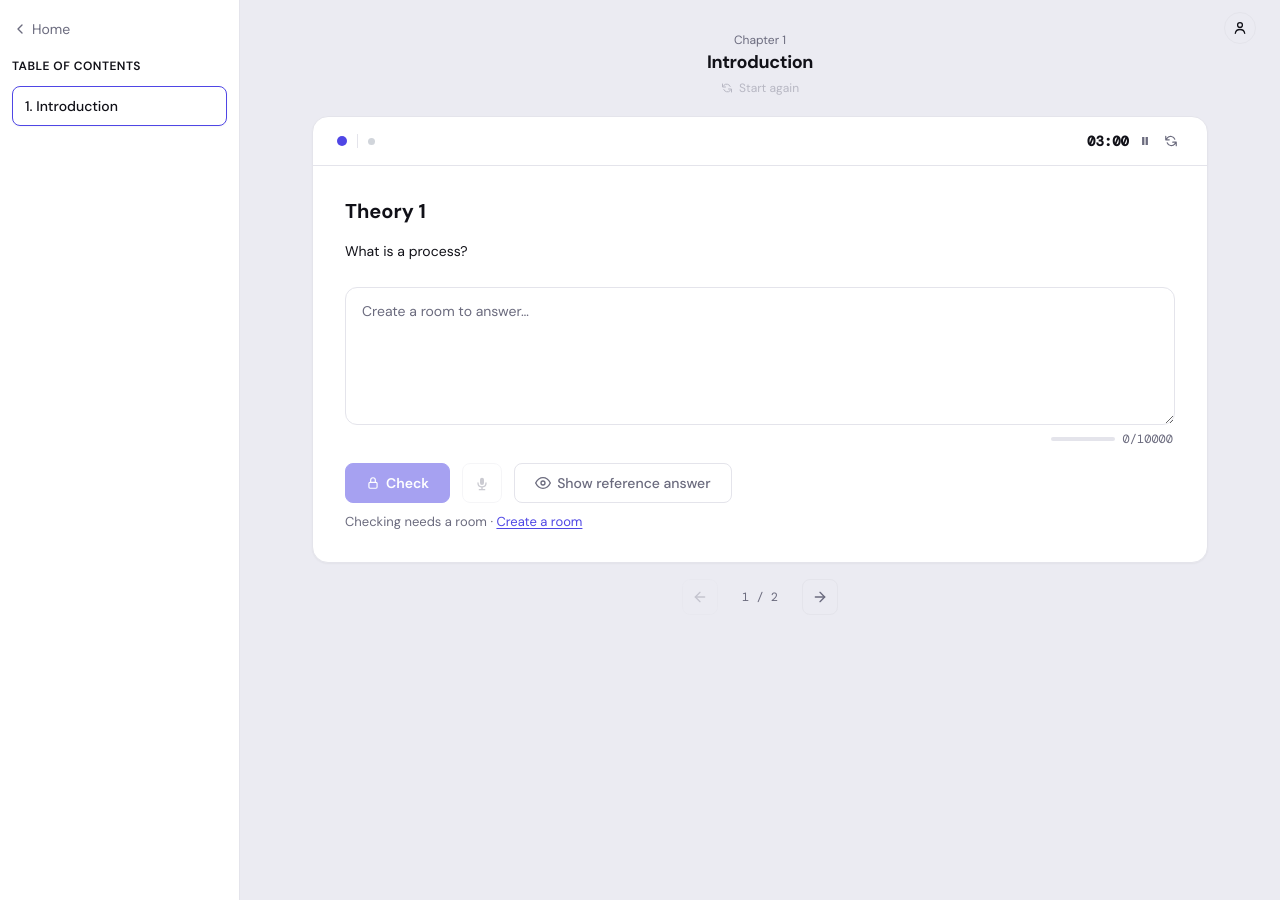
Test: App routing › renders roomless question links read-only without redirecting
Expected: the text "What is a process?" is shown, [345,242,468,260]
Expected: the button "Create a room" is shown, [496,513,582,530]
Click the button named "Next question" at point(820, 597), box [802,579,838,615]
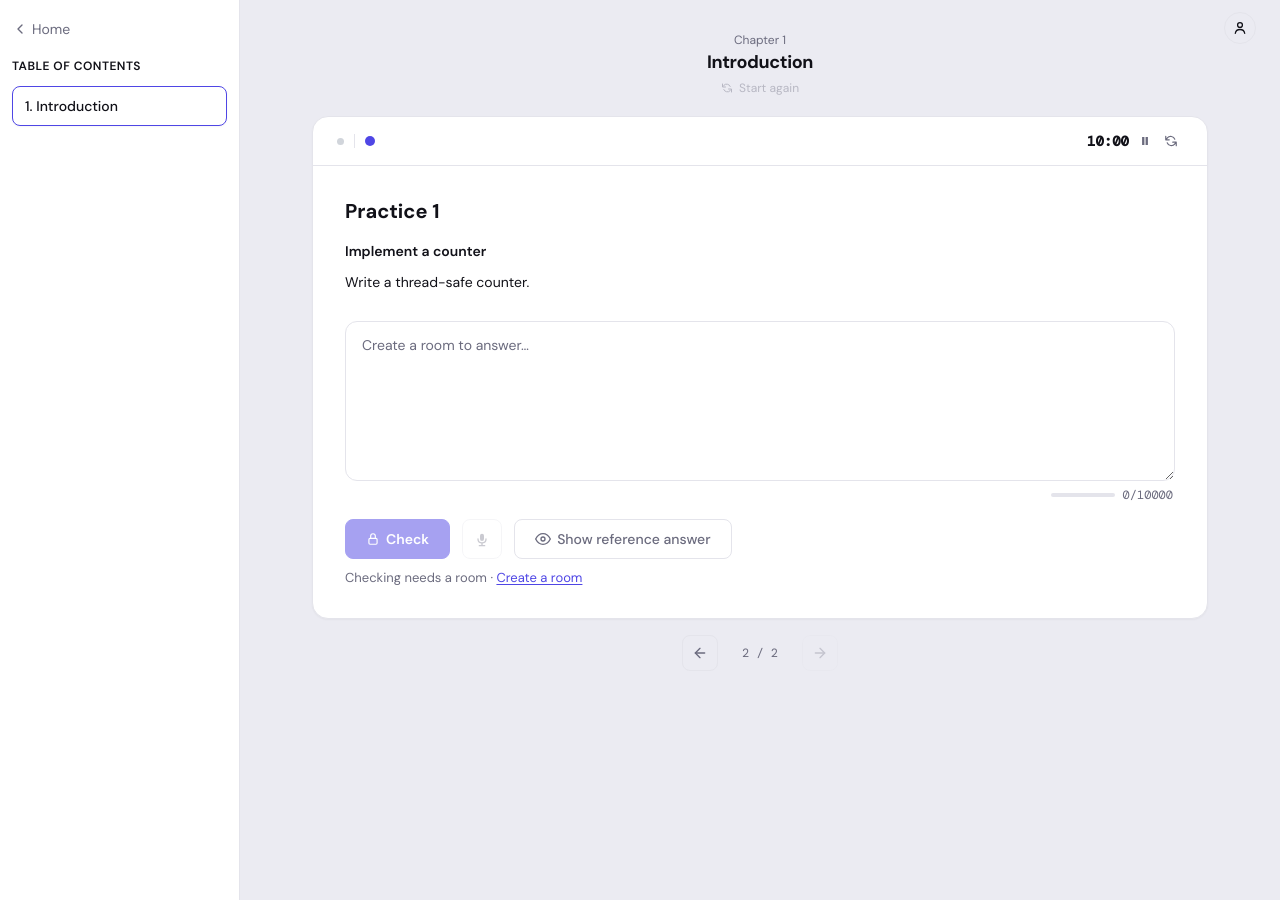
Expected: the button "Create a room" is shown, [496,570,582,586]
Now the heading "Practice 1" is shown, box [345,198,440,224]
